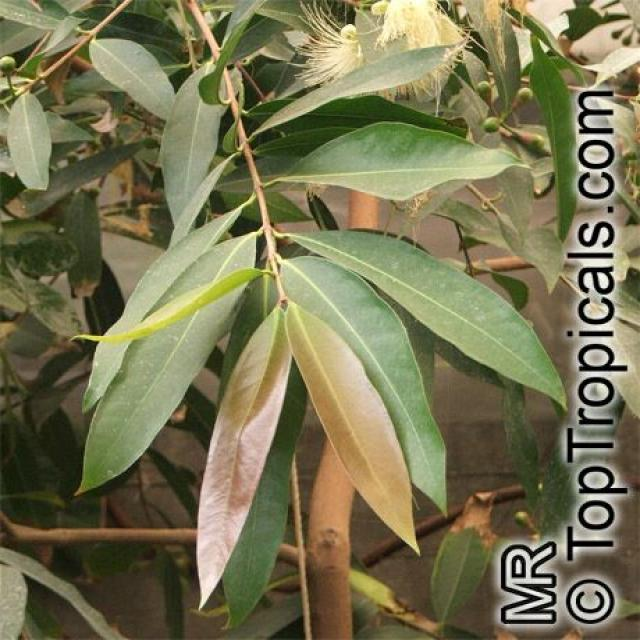Medicinal-Rose Apple: (0, 0, 489, 612)
